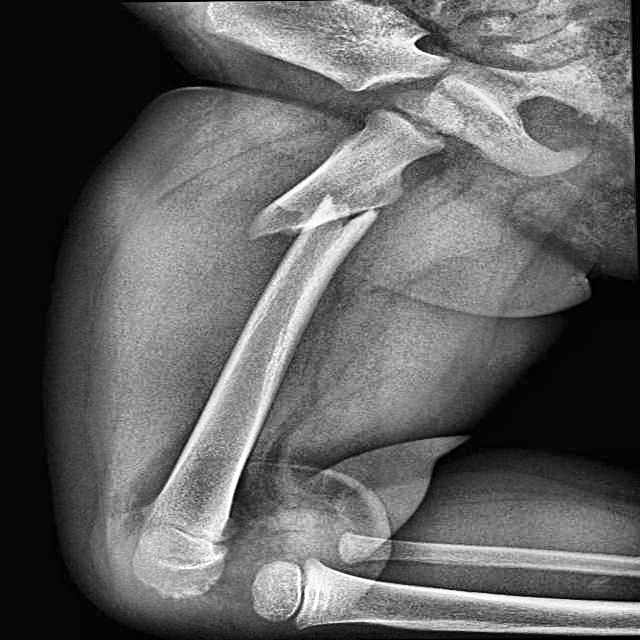Oblique: (231, 179, 406, 261)
